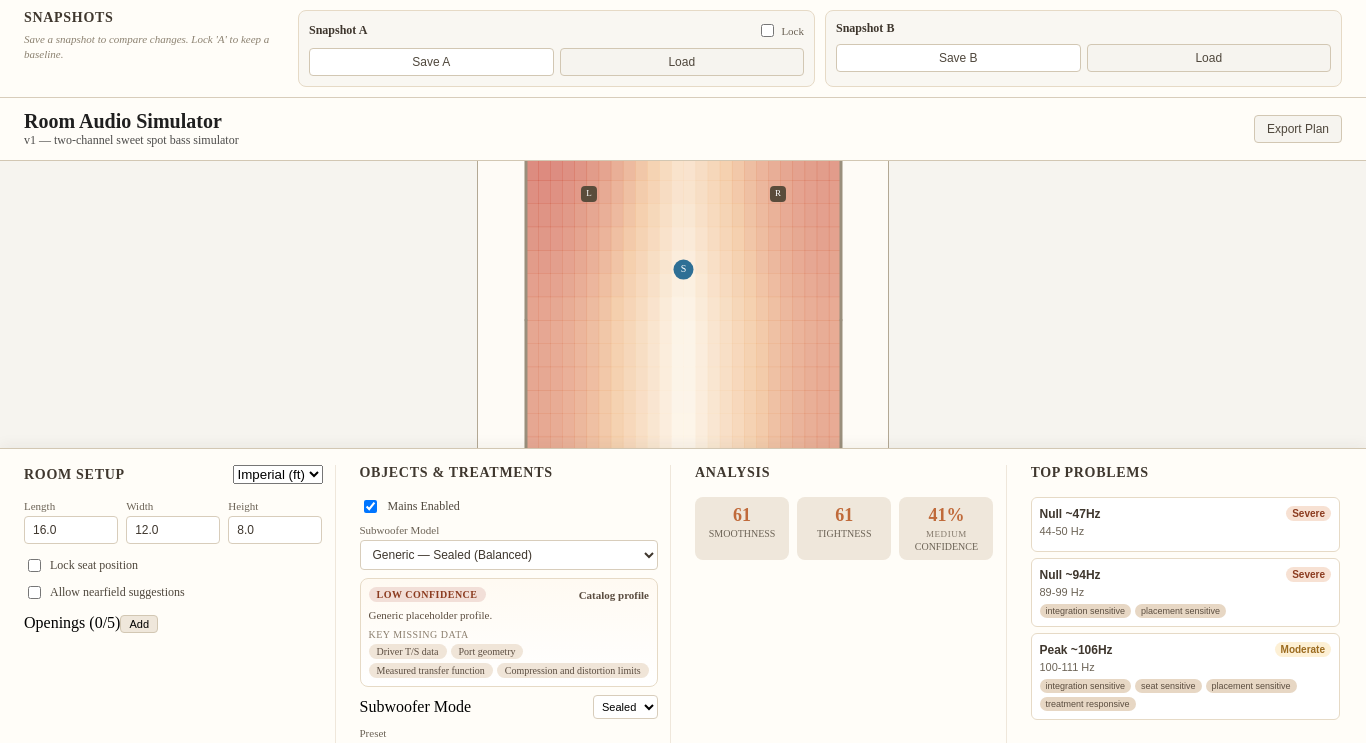
Test: App subwoofer mode switching › shows a user-visible error banner when snapshot restore fails
The width and height of the screenshot is (1366, 743).
Click the button with aria-label "Save Snapshot A" at (431, 62), box [309, 48, 554, 76]
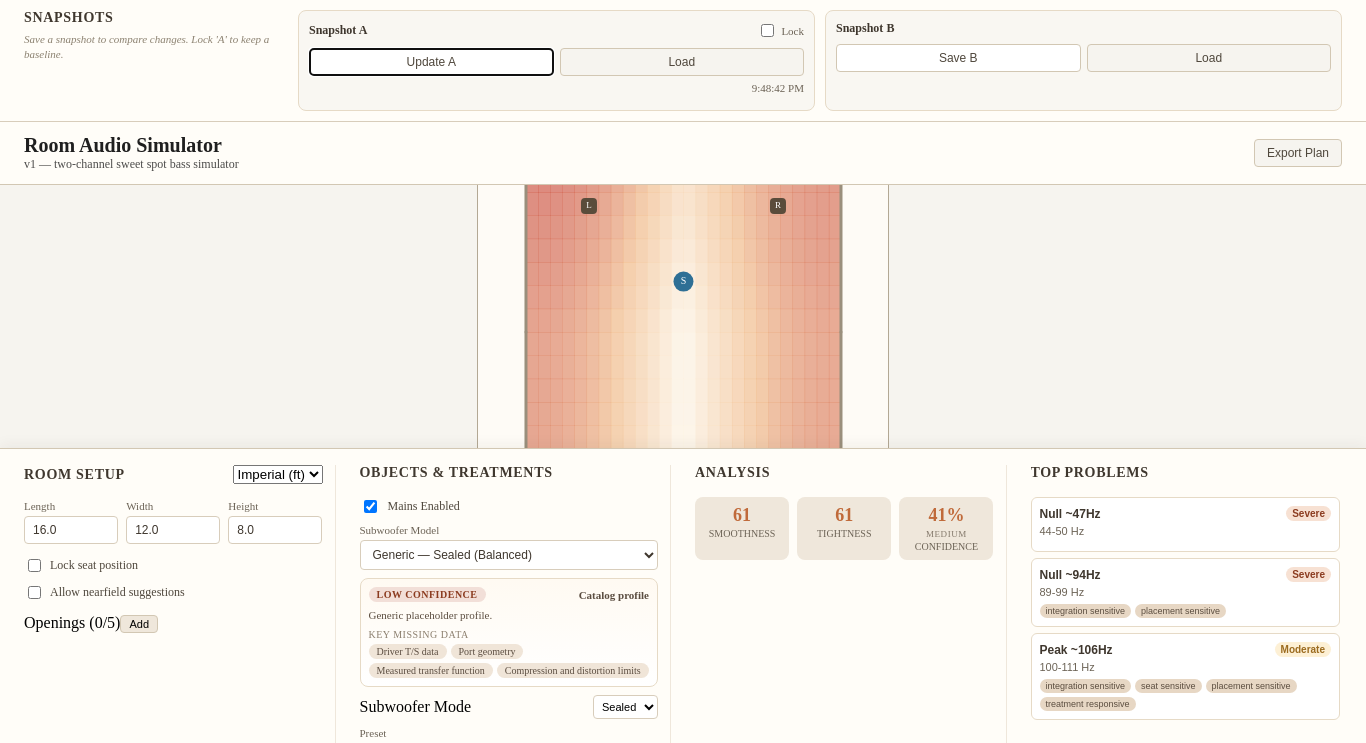
Click the button with aria-label "Load Snapshot A" at (682, 62), box [560, 48, 804, 76]
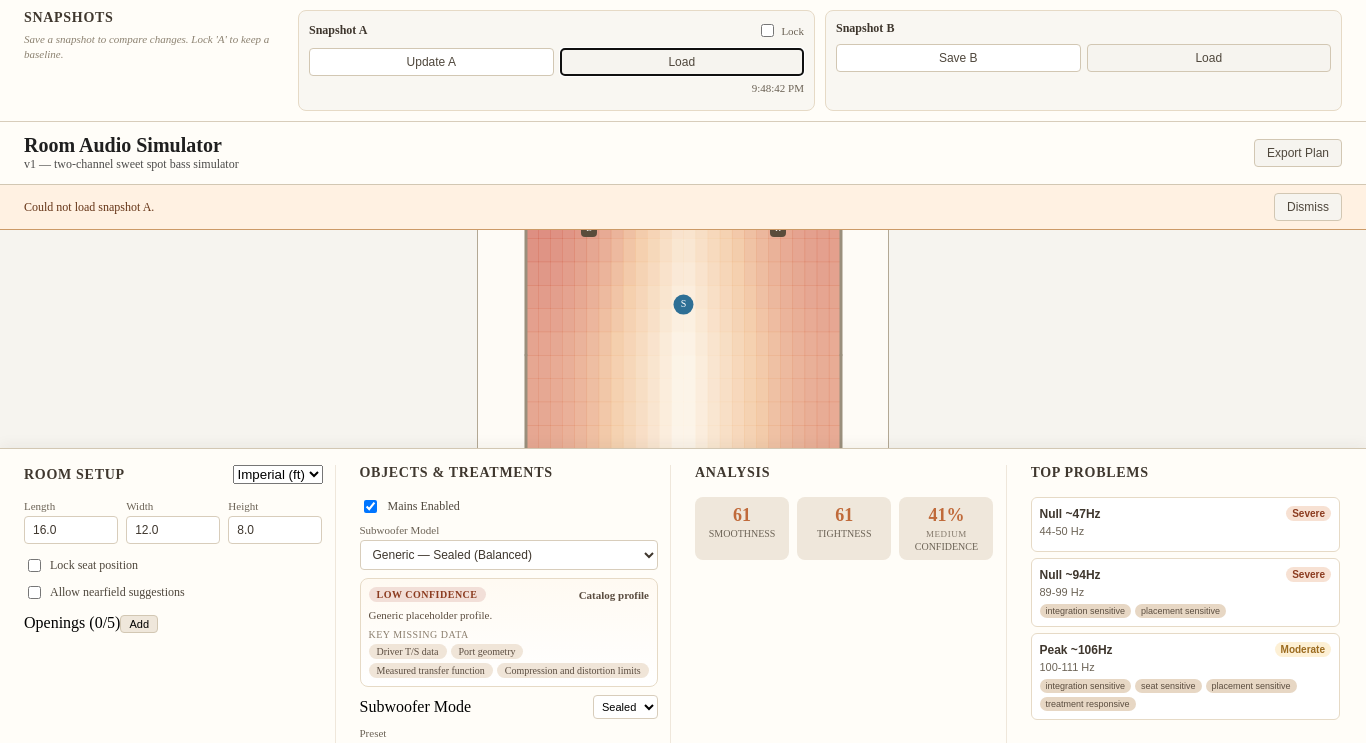
Result: the message shows "Could not load snapshot A." at [24, 200, 154, 214]
Click the button with aria-label "Dismiss error" at (1308, 207), box [1274, 193, 1342, 221]
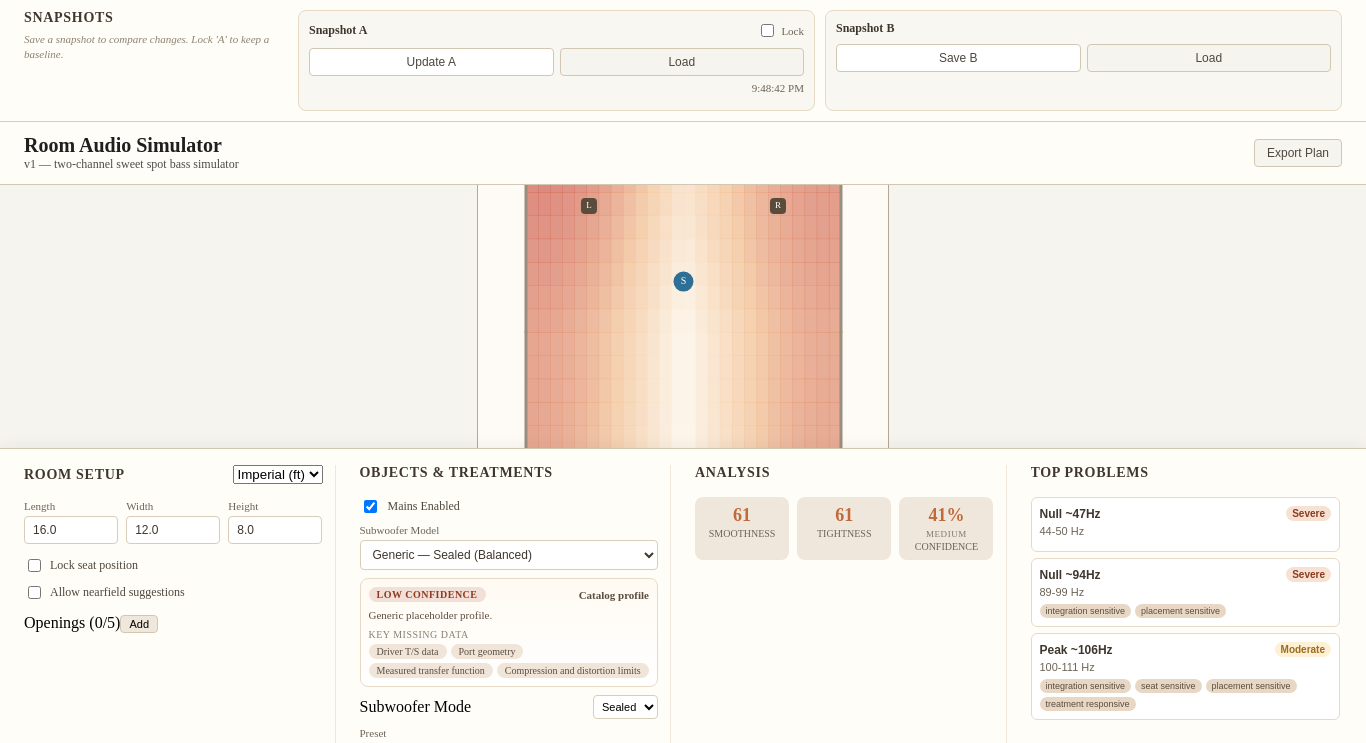
Result: the message "Could not load snapshot A. Dismiss" is gone
